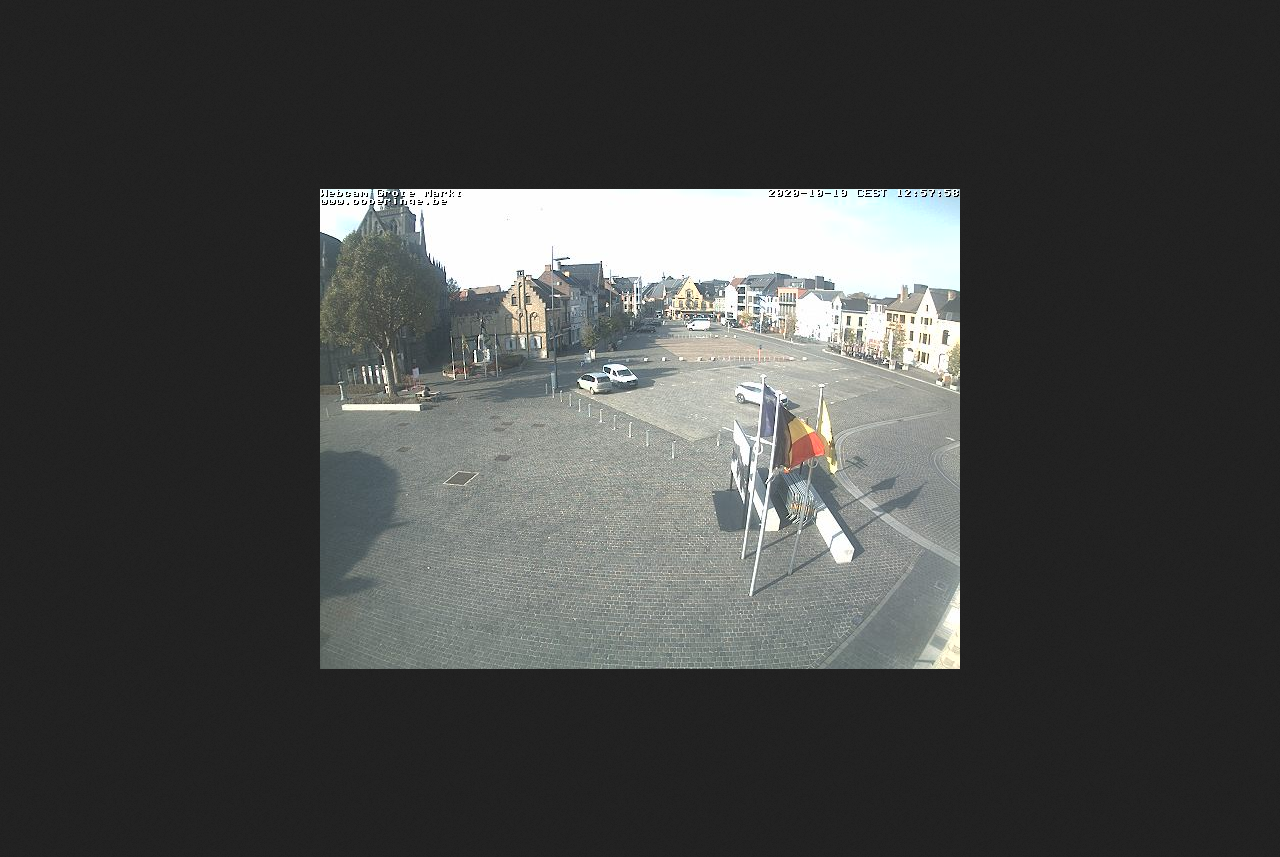maybe: (766, 401, 827, 479), (815, 390, 844, 483), (460, 328, 470, 354)
no: (493, 334, 503, 357)
